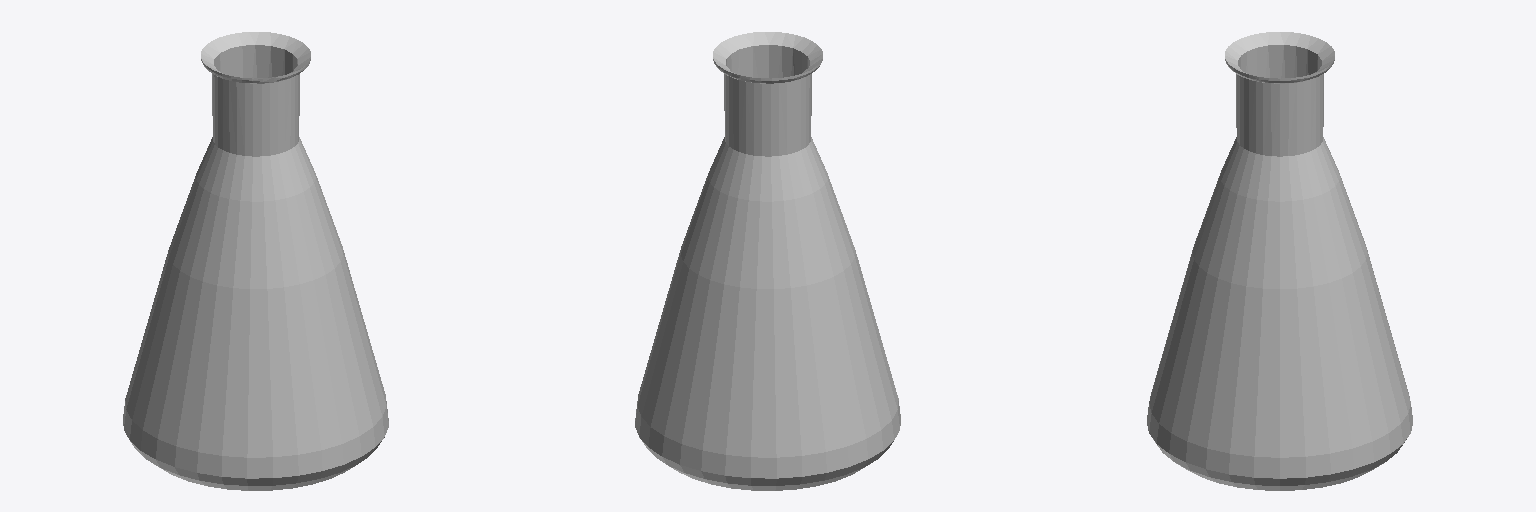
The model's file is Flask.obj.
3 views of the same model, side by side, from view 1: azimuth 30°, elevation 25°; view 2: azimuth 150°, elevation 25°; view 3: azimuth 270°, elevation 25° (orthographic).
Visible parts, largest first — view 1: Sphere; view 2: Sphere; view 3: Sphere.
Boxes of the visible parts, x1,y1,x2,y2 form: Sphere: [123, 32, 388, 490]; Sphere: [635, 32, 900, 490]; Sphere: [1147, 32, 1412, 490].
Bounding box in the file's own units: 2.57 × 4.28 × 2.57.